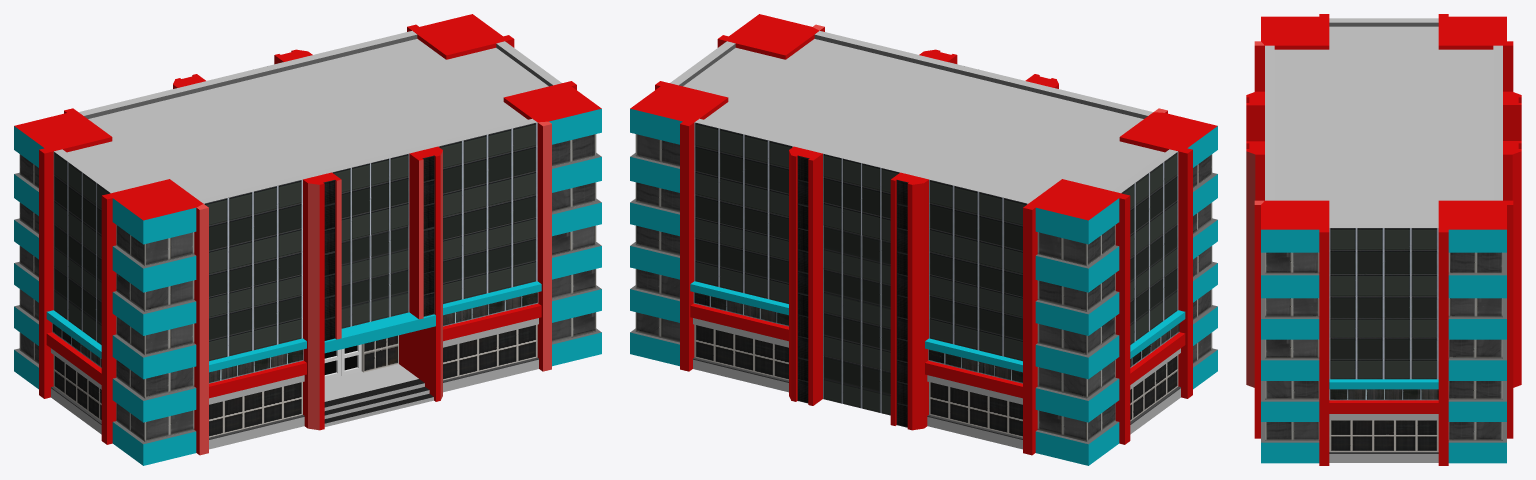
3 renders of one model, left to right at view 1: azimuth 30°, elevation 25°; view 2: azimuth 150°, elevation 25°; view 3: azimuth 270°, elevation 25°, orthographic. The views are drawn at different scales.
Visible parts, largest first — view 1: Building; view 2: Building; view 3: Building.
Part boxes in pixels (x1=…): Building: x1=14, y1=14, x2=601, y2=465; Building: x1=630, y1=14, x2=1217, y2=465; Building: x1=1246, y1=14, x2=1521, y2=465.
Size of what is drawn, in the model's own units: 34.06 by 17 by 18.14.
